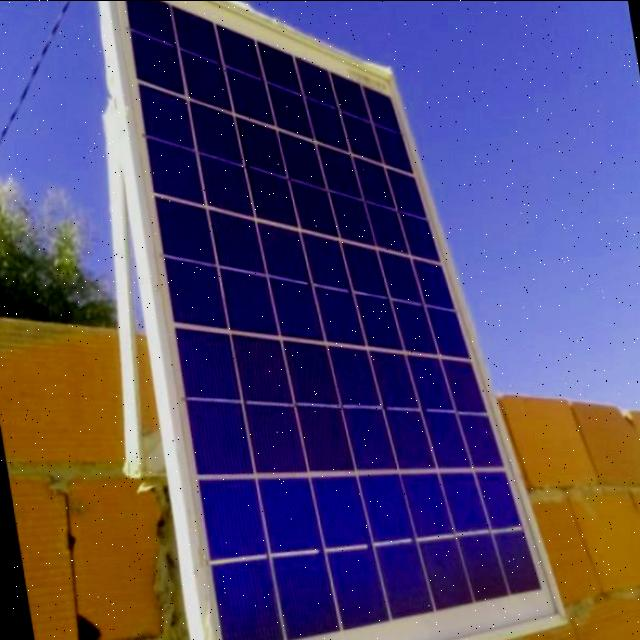Normal Solar Panel: (106, 0, 572, 640)
